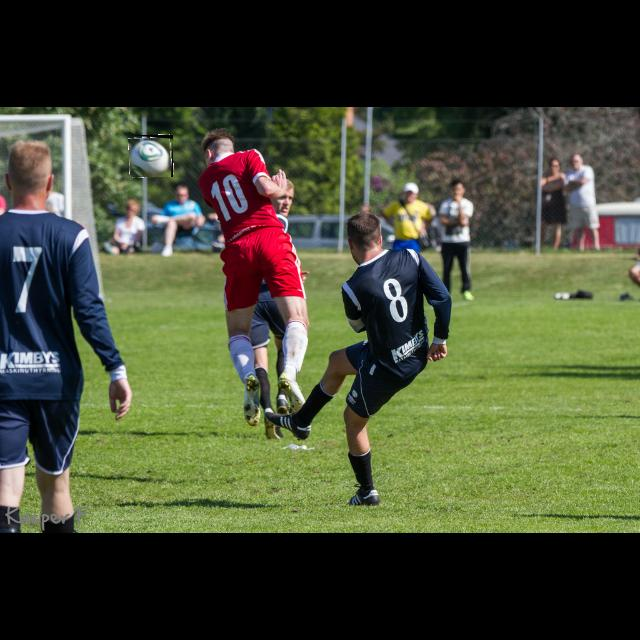Football: (129, 135, 173, 177)
